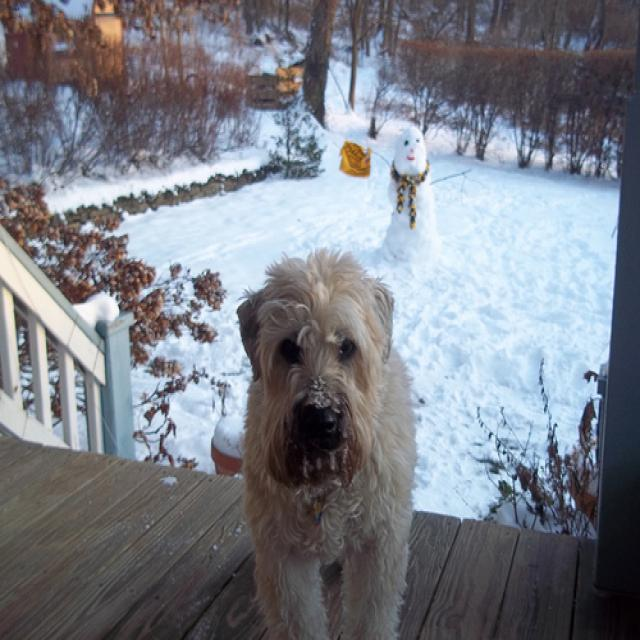dog-wheaten_terrier: (227, 242, 422, 637)
